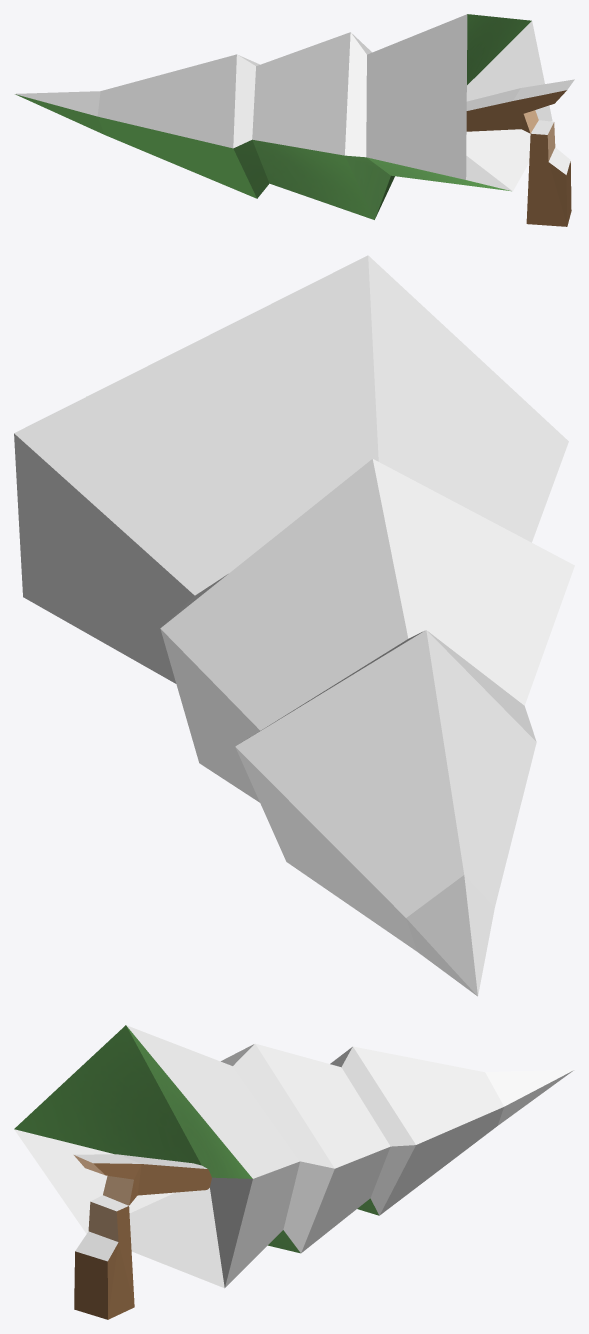
The model's file is Fir_Tree_crk_s_Snow_01_LOD.fbx.
3 views of the same model, one above another, from view 1: azimuth 30°, elevation 25°; view 2: azimuth 150°, elevation 25°; view 3: azimuth 270°, elevation 25° (orthographic). The views are drawn at different scales.
Visible parts, largest first — view 1: Fir_Tree_crk_s_Snow_01_LOD0; view 2: Fir_Tree_crk_s_Snow_01_LOD0; view 3: Fir_Tree_crk_s_Snow_01_LOD0.
Boxes of the visible parts, x1,y1,x2,y2 form: Fir_Tree_crk_s_Snow_01_LOD0: (15, 14, 574, 226); Fir_Tree_crk_s_Snow_01_LOD0: (14, 255, 574, 996); Fir_Tree_crk_s_Snow_01_LOD0: (14, 1025, 574, 1319).
Size of what is drawn, in the model's own units: 181 by 96.7 by 203.
